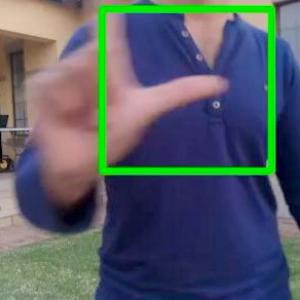land_hand: (22, 0, 236, 186)
